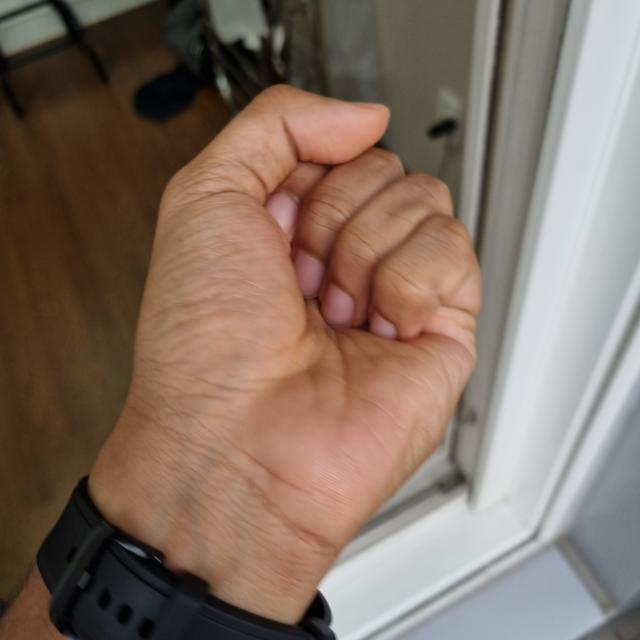Rock: (101, 83, 484, 608)
